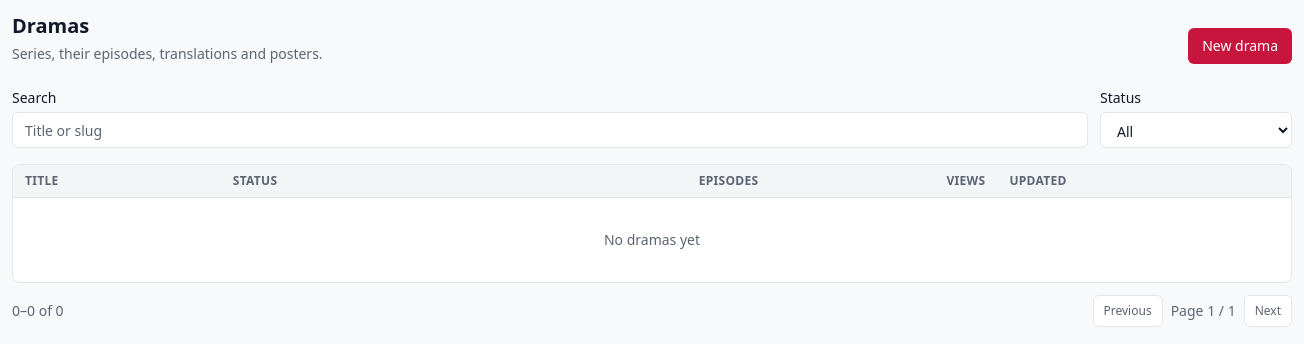
Test: DramasList › sends the status filter to the API
Expected: the text "No dramas yet" is shown, 13,198 -> 1291,282
Select "Archived" in the dropdown labelled "Status" at {"x": 1196, "y": 130}, box 1100,112 -> 1292,148
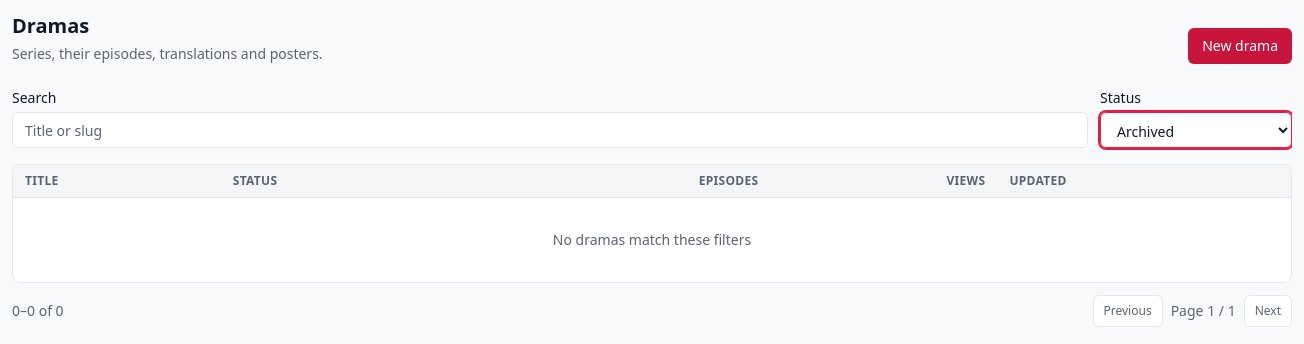
Expected: the text "No dramas match these filters" is shown, 13,198 -> 1291,282
